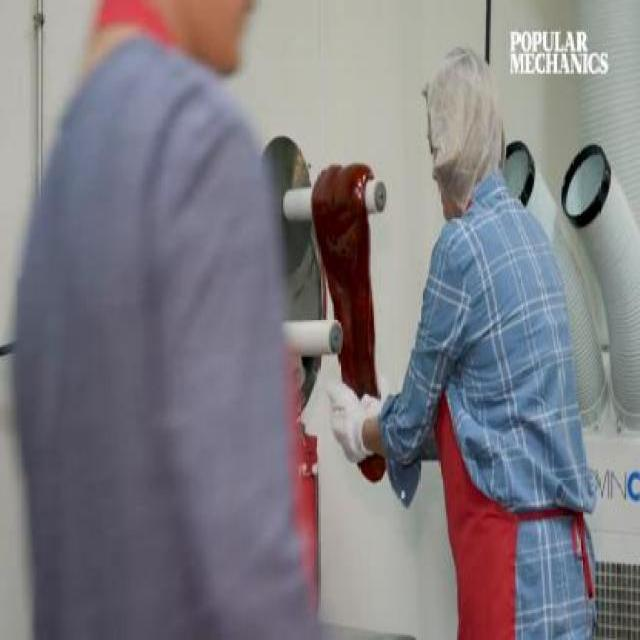gloved_hand: (311, 357, 385, 473)
